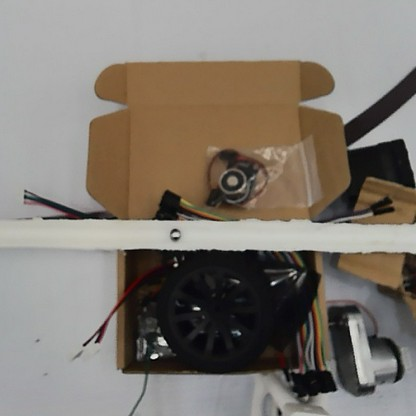ironball: (165, 225, 183, 241)
